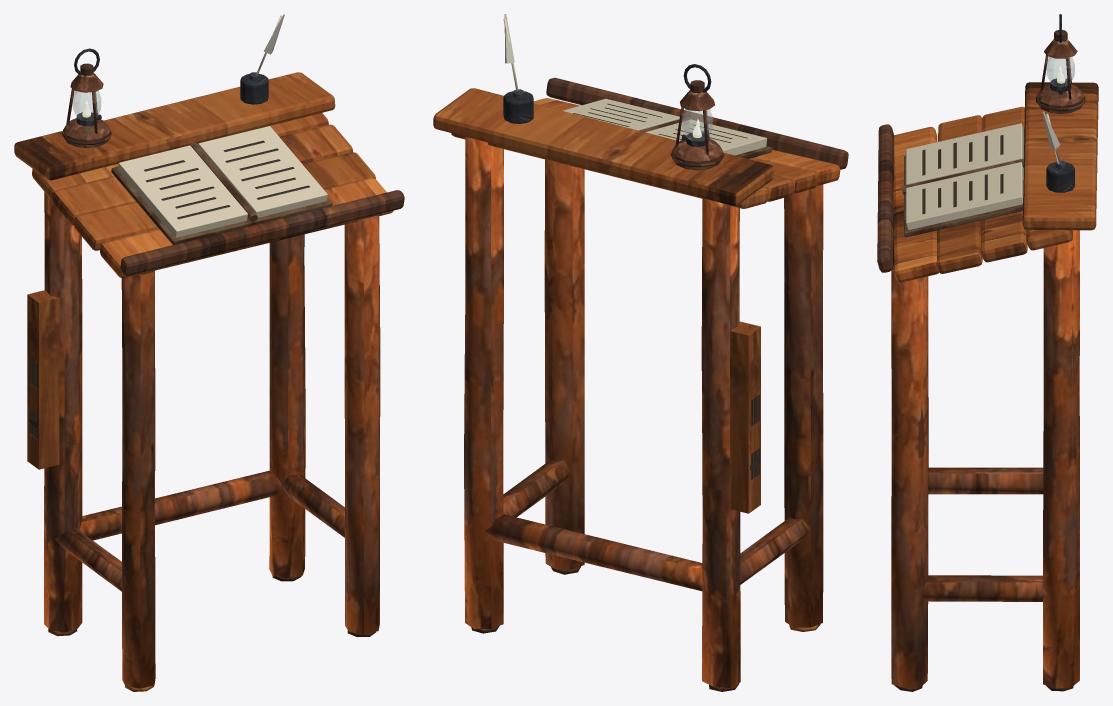
The model's file is lw_ledger_desk.glb.
3 renders of one model, left to right at view 1: azimuth 30°, elevation 25°; view 2: azimuth 150°, elevation 25°; view 3: azimuth 270°, elevation 25°, orthographic. The views are drawn at different scales.
Visible parts, largest first — view 1: model; view 2: model; view 3: model.
Boxes of the visible parts, box(x1,y1,x2,y2) form: model: box(14, 14, 404, 691); model: box(433, 14, 848, 691); model: box(877, 14, 1098, 691).
Bounding box in the file's own units: 0.7204 × 1.38 × 0.4823.
18 materials, 13 textured.
